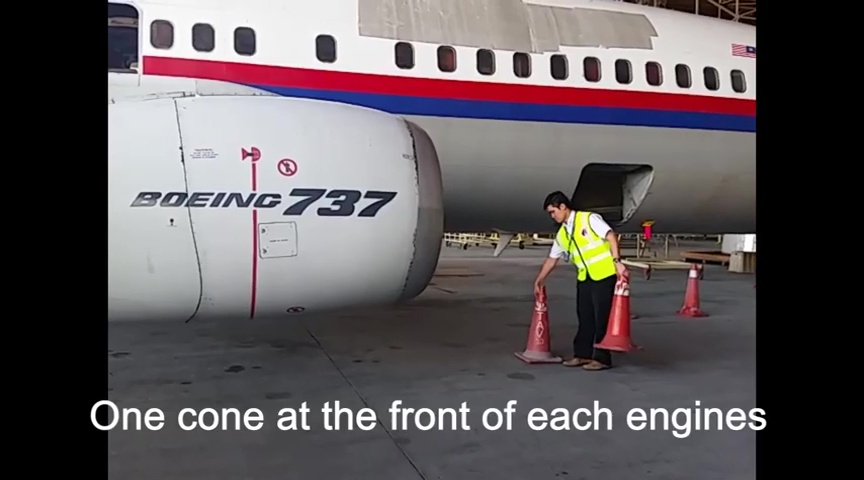safety_cone: (592, 266, 641, 355), (514, 285, 563, 366), (676, 263, 706, 319)
